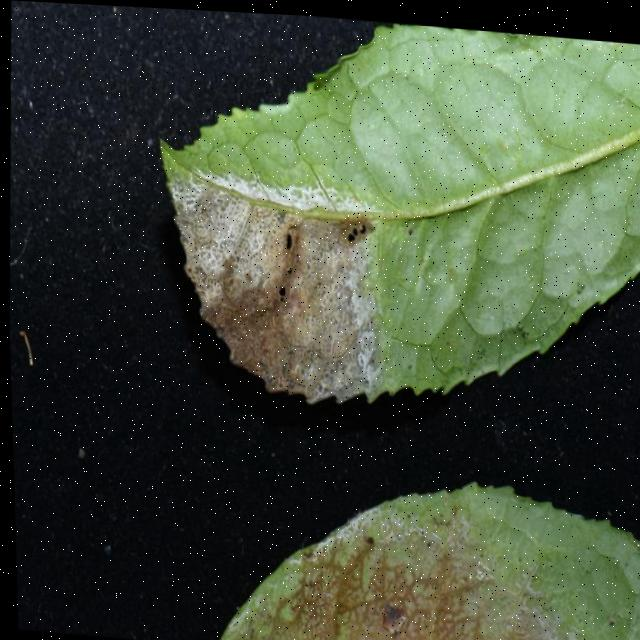Tea exobasidium blight: (163, 164, 400, 404)
